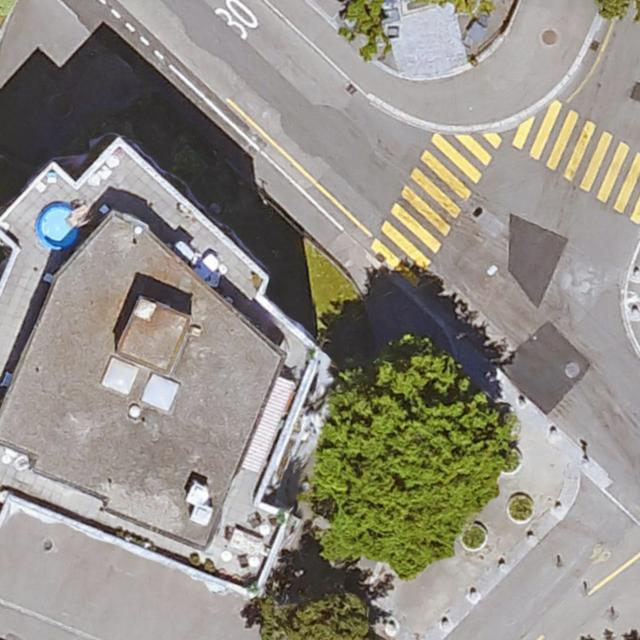tree: (310, 337, 513, 575), (259, 592, 371, 640), (172, 146, 203, 178), (596, 0, 634, 20)
